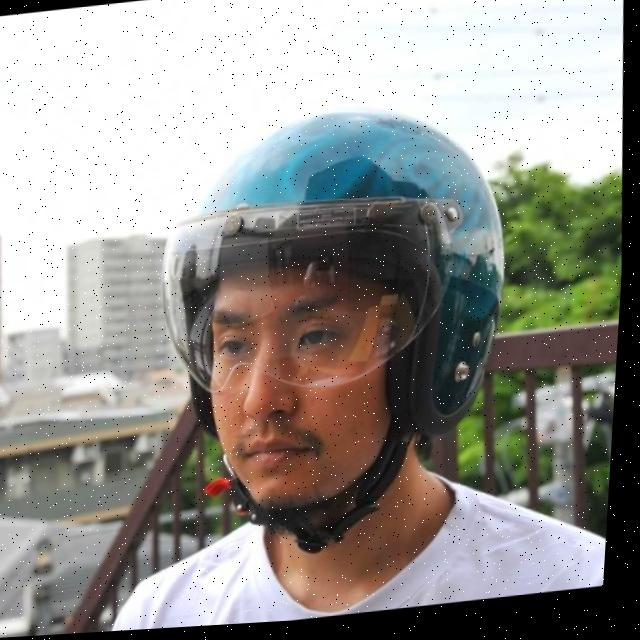helmet: (134, 82, 546, 583)
